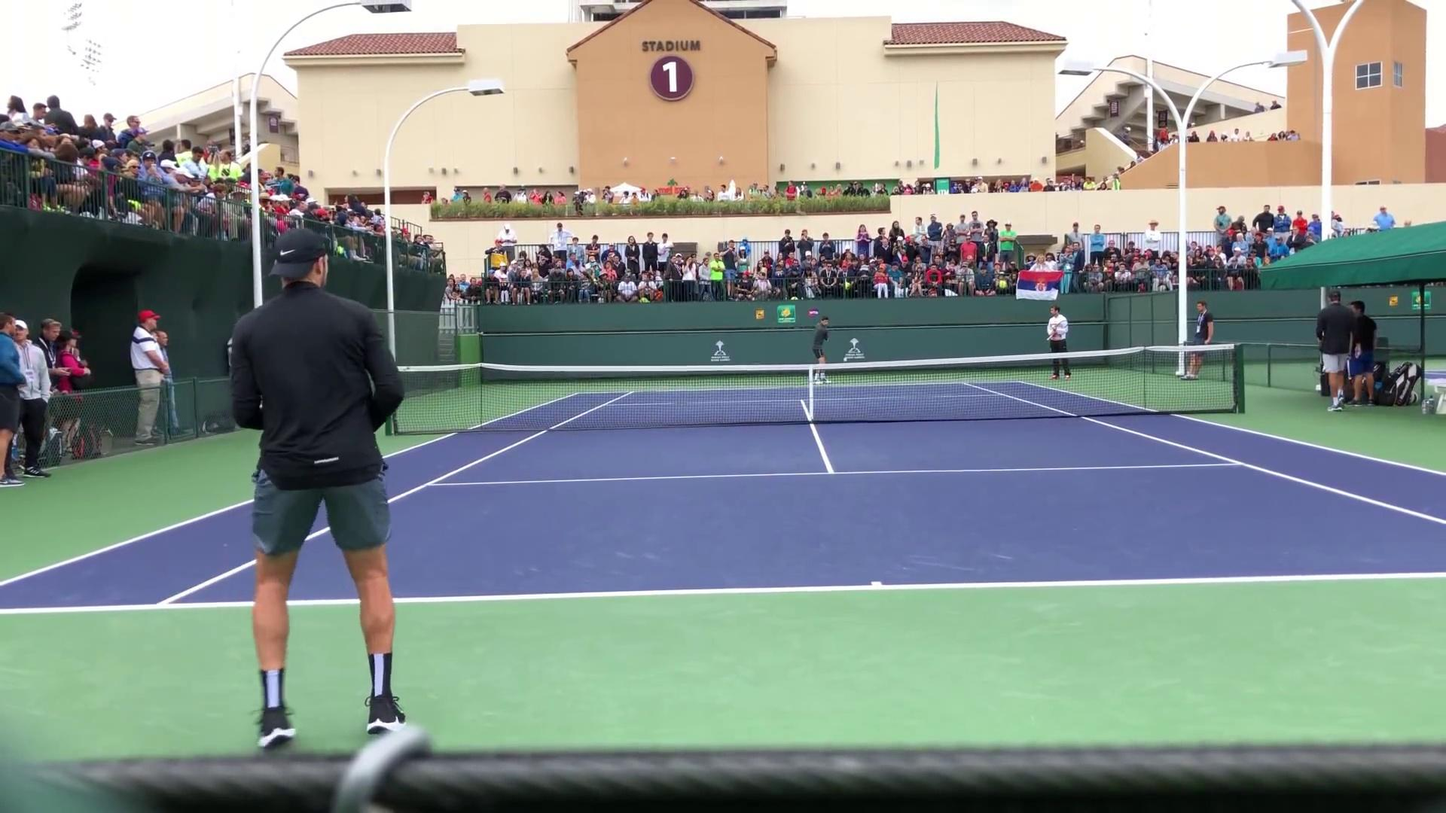ball: (842, 356, 848, 361)
